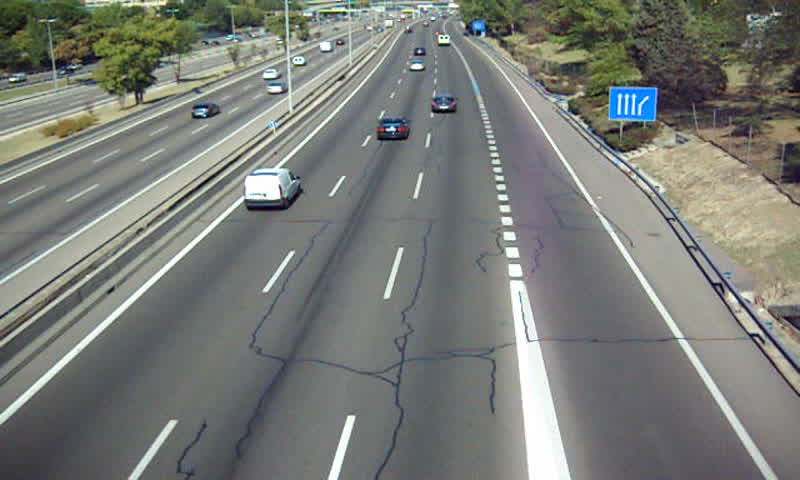car: (376, 116, 409, 139), (429, 93, 457, 113), (408, 58, 425, 72)
van: (243, 169, 299, 209)
